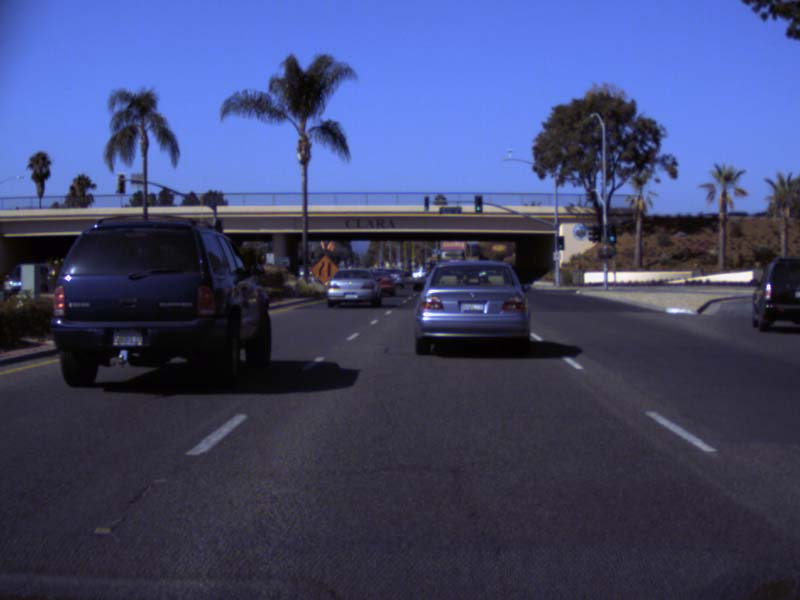Green: (606, 224, 616, 244), (474, 195, 482, 213), (557, 236, 563, 250), (424, 196, 428, 210)
